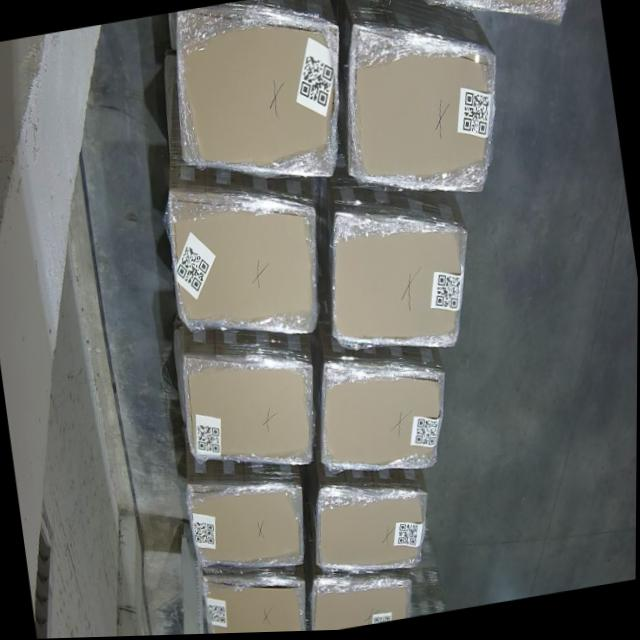pallet: (331, 0, 517, 225), (156, 162, 330, 362), (160, 0, 352, 172), (319, 189, 475, 370), (166, 317, 323, 488), (315, 340, 463, 493), (304, 461, 440, 589), (183, 463, 311, 583), (192, 551, 309, 635), (301, 553, 415, 633)
